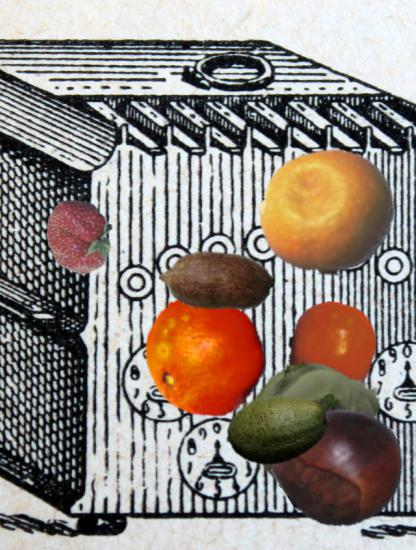Avocado: (225, 376, 332, 483)
Chestnut: (279, 403, 405, 529)
Clementine: (140, 291, 271, 422), (283, 302, 381, 400)
Kohlrabi: (246, 355, 385, 494)
Kumquats: (259, 143, 395, 279)
Nut: (158, 223, 274, 339)
Strawberry: (41, 197, 120, 276)
